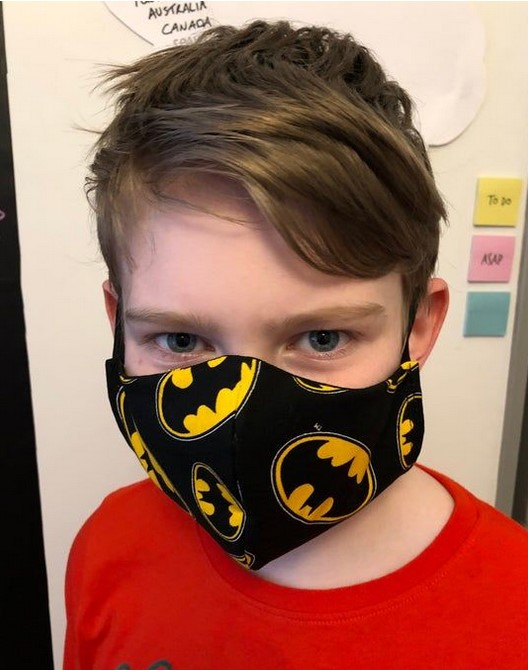face_with_mask: (89, 17, 456, 569)
